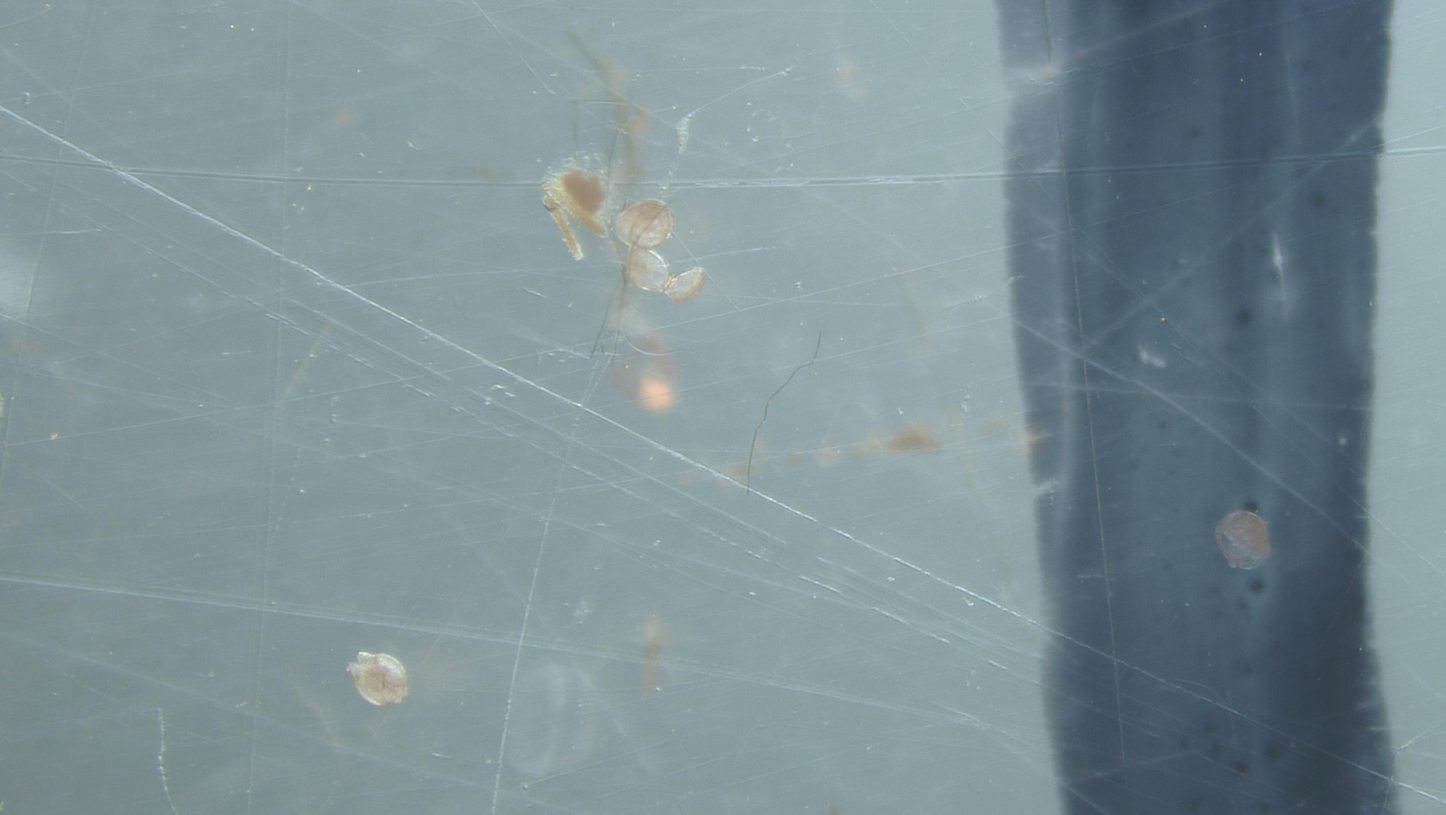dead: (628, 251, 670, 291)
live: (1215, 510, 1270, 570), (347, 652, 408, 706), (615, 200, 674, 249)
